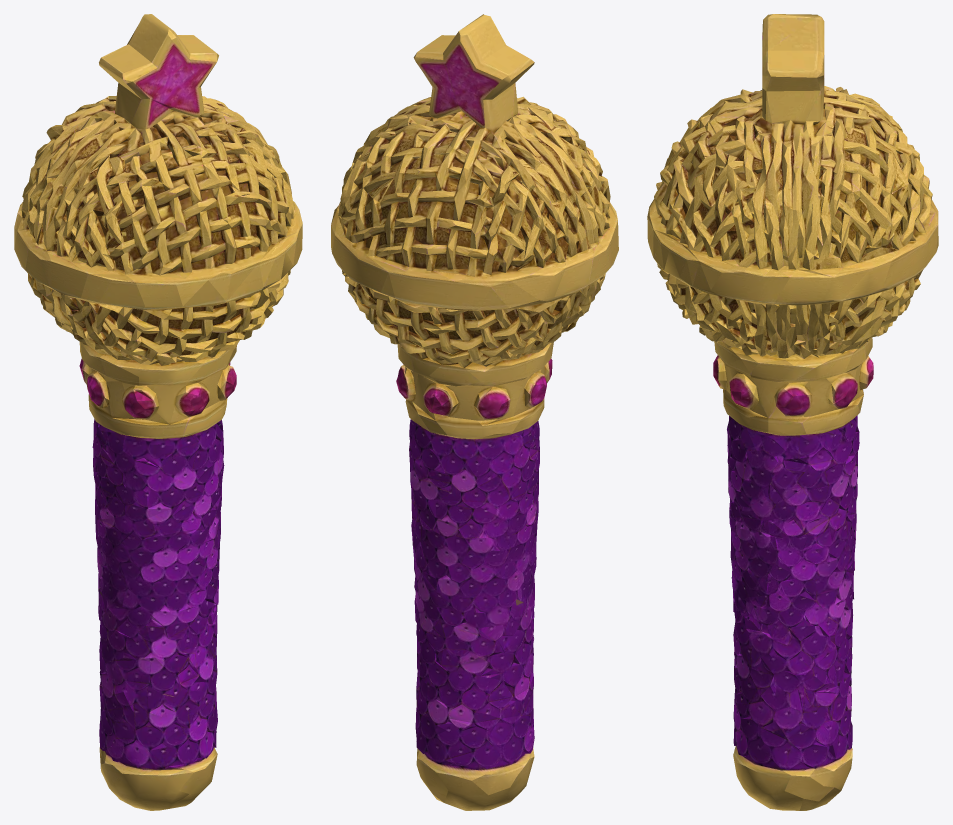
File: star_mic.glb
The picture shows the model from 3 angles, left to right: view 1: azimuth 30°, elevation 25°; view 2: azimuth 150°, elevation 25°; view 3: azimuth 270°, elevation 25°; orthographic projection.
Visible parts, largest first — view 1: Mesh_0; view 2: Mesh_0; view 3: Mesh_0.
Boxes of the visible parts, x1,y1,x2,y2 form: Mesh_0: (14,14,302,810); Mesh_0: (331,14,618,810); Mesh_0: (647,14,938,810).
Bounding box in the file's own units: 0.3348 × 1 × 0.3341.
1 material, 1 textured.
